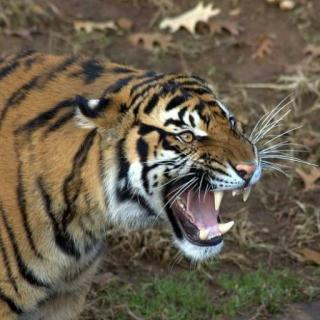Tiger: (0, 28, 281, 320)
